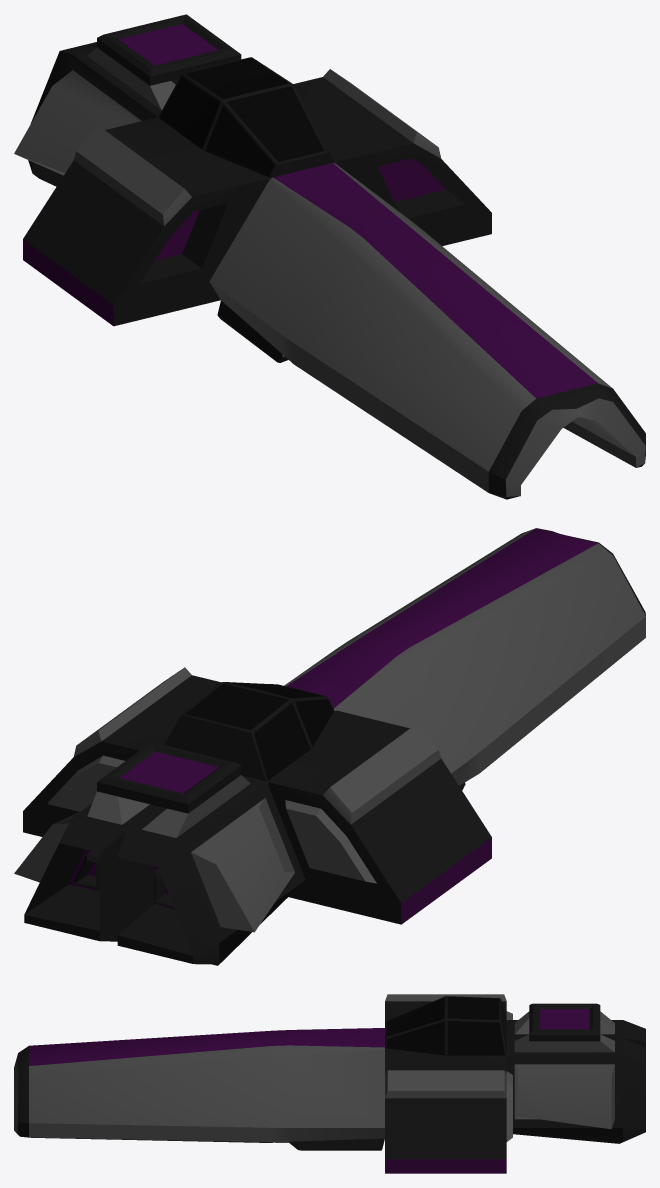
The model's file is Small_Hull_1.FBX.
3 views of the same model, one above another, from view 1: azimuth 30°, elevation 25°; view 2: azimuth 150°, elevation 25°; view 3: azimuth 270°, elevation 25° (orthographic). The views are drawn at different scales.
Visible parts, largest first — view 1: Small Fighter Hull001; view 2: Small Fighter Hull001; view 3: Small Fighter Hull001.
Part boxes in pixels (bbox=[...]): Small Fighter Hull001: bbox=[14, 14, 645, 499]; Small Fighter Hull001: bbox=[14, 528, 645, 965]; Small Fighter Hull001: bbox=[14, 994, 645, 1173].
Size of the model in its own units: 48.81 by 105 by 21.21.
